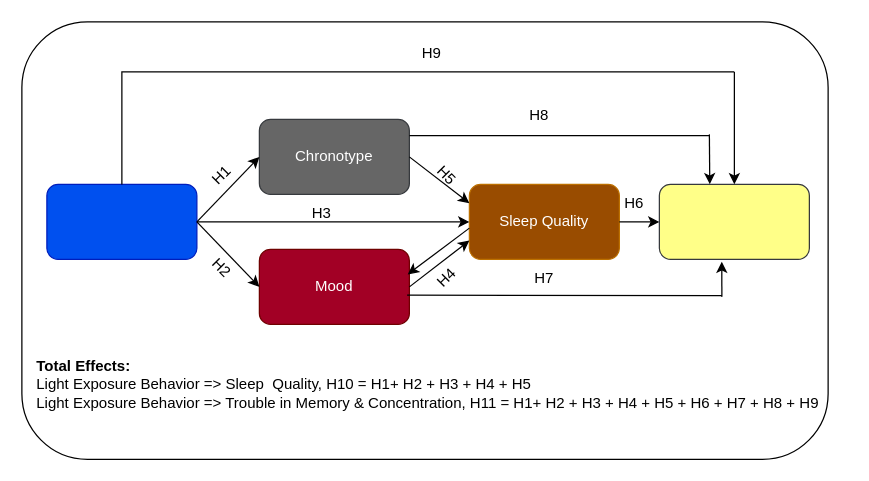
Image size: 869x481. Some labels were removed from this diagram. Here are the shapes that lost their labels. From the top down, the centre of each, then its label:
At pixel 121 221: "Light Exposure Related Behavior".
At pixel 733 221: "Trouble in Memory & Concentration".
